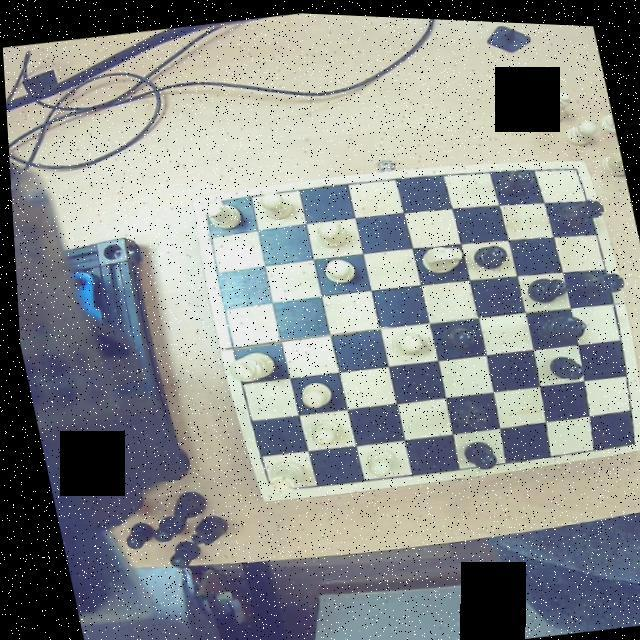chess-table-corners: (192, 192, 220, 218), (252, 472, 278, 498), (612, 427, 640, 446), (564, 156, 588, 178)
